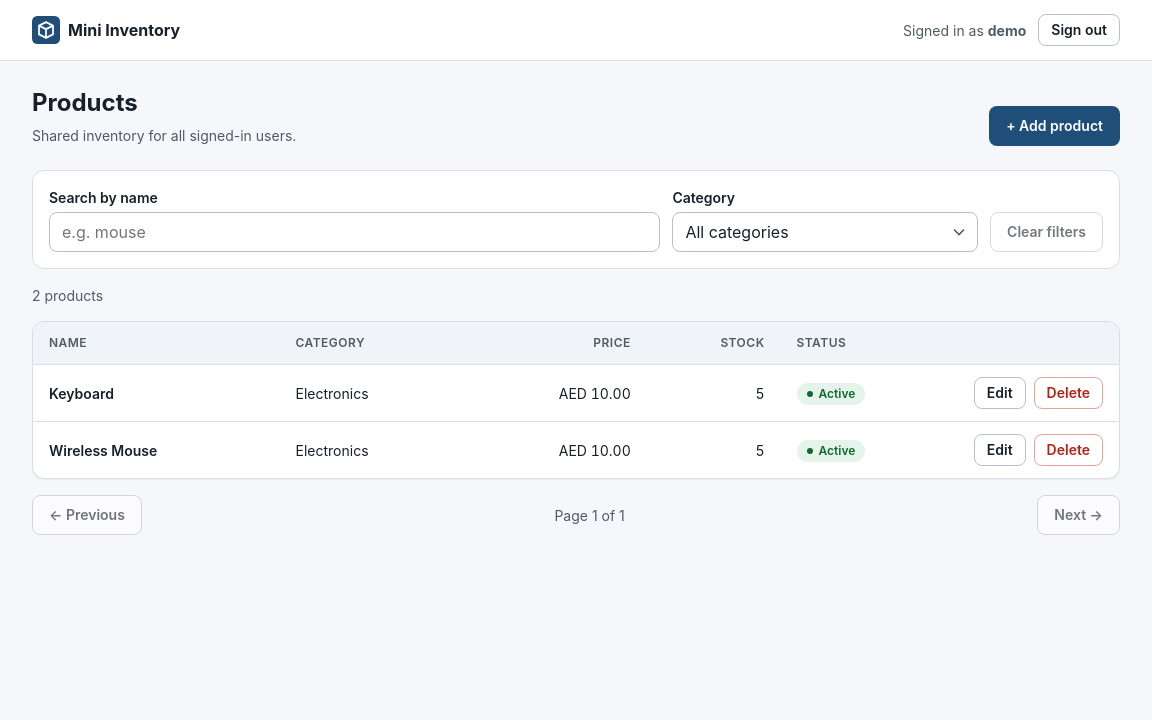
Test: search, filters and pagination › debounces search into a single request for the final value
The width and height of the screenshot is (1152, 720).
expect the text "Keyboard" is shown: met, box 33,365 -> 280,422
In the search field labelled "Search by name": (355, 232) 49,212 -> 660,252, type "mouse"
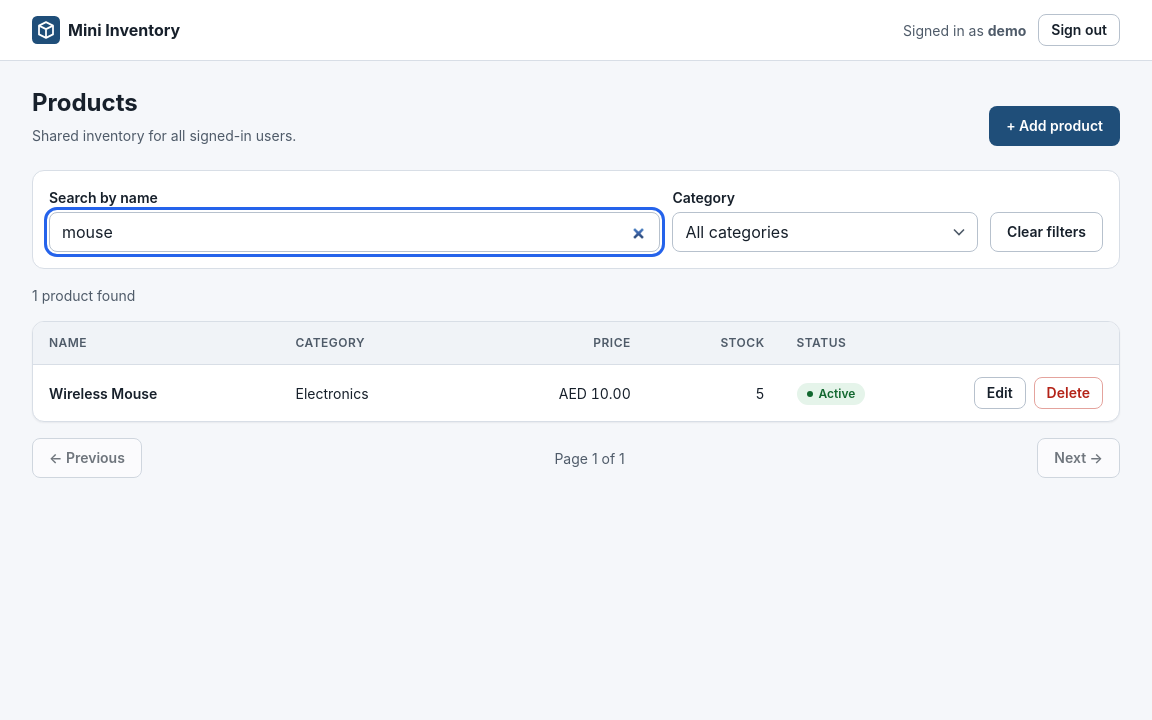
expect the text "Keyboard" is gone: met
expect the text "1 product found" is shown: met, box 32,285 -> 135,309
